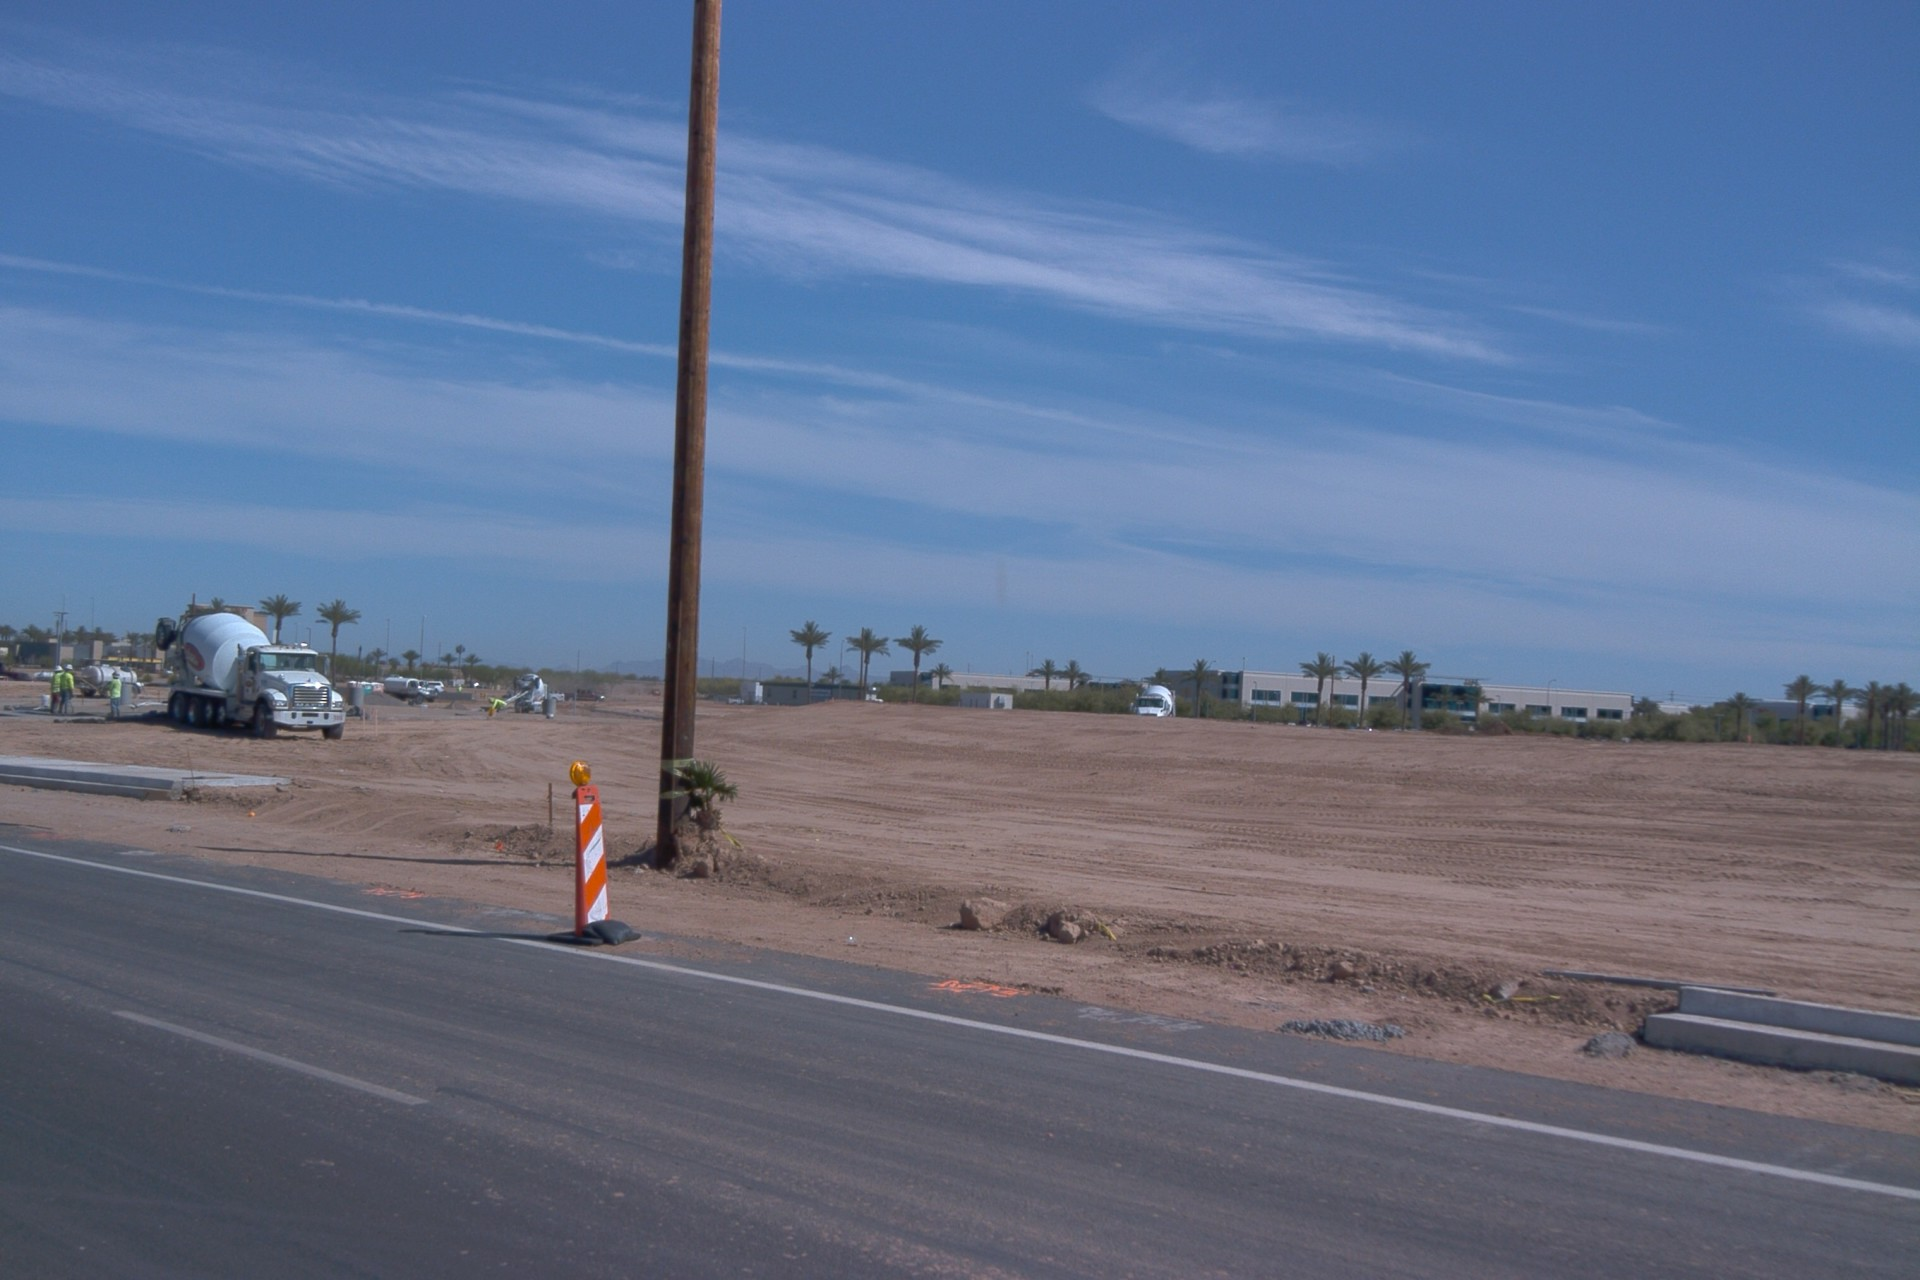TYPE_PEDESTRIAN: (103, 670, 124, 721), (57, 665, 76, 717), (50, 664, 69, 714), (488, 696, 512, 711), (508, 687, 514, 699)
TYPE_VEHICLE: (151, 613, 343, 741), (77, 663, 142, 700), (501, 674, 551, 718), (1128, 679, 1177, 720), (381, 674, 437, 704), (561, 687, 607, 705), (418, 681, 446, 697), (0, 675, 33, 684), (550, 692, 569, 705), (148, 682, 183, 689), (726, 697, 741, 704)
